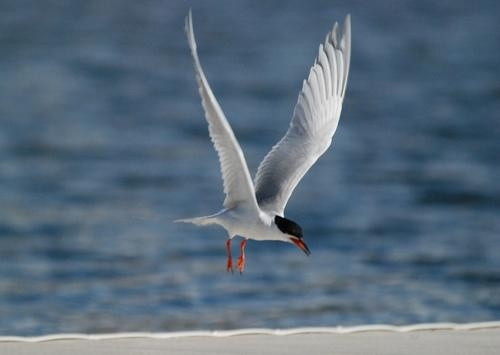bird: (180, 7, 359, 274)
